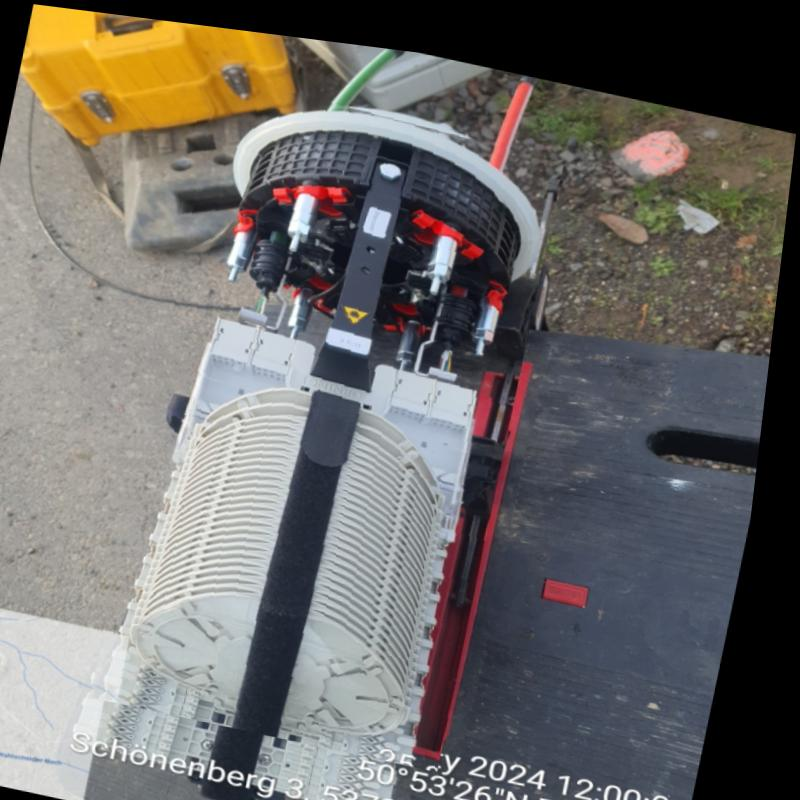NT-Muffen: (108, 99, 550, 755)
